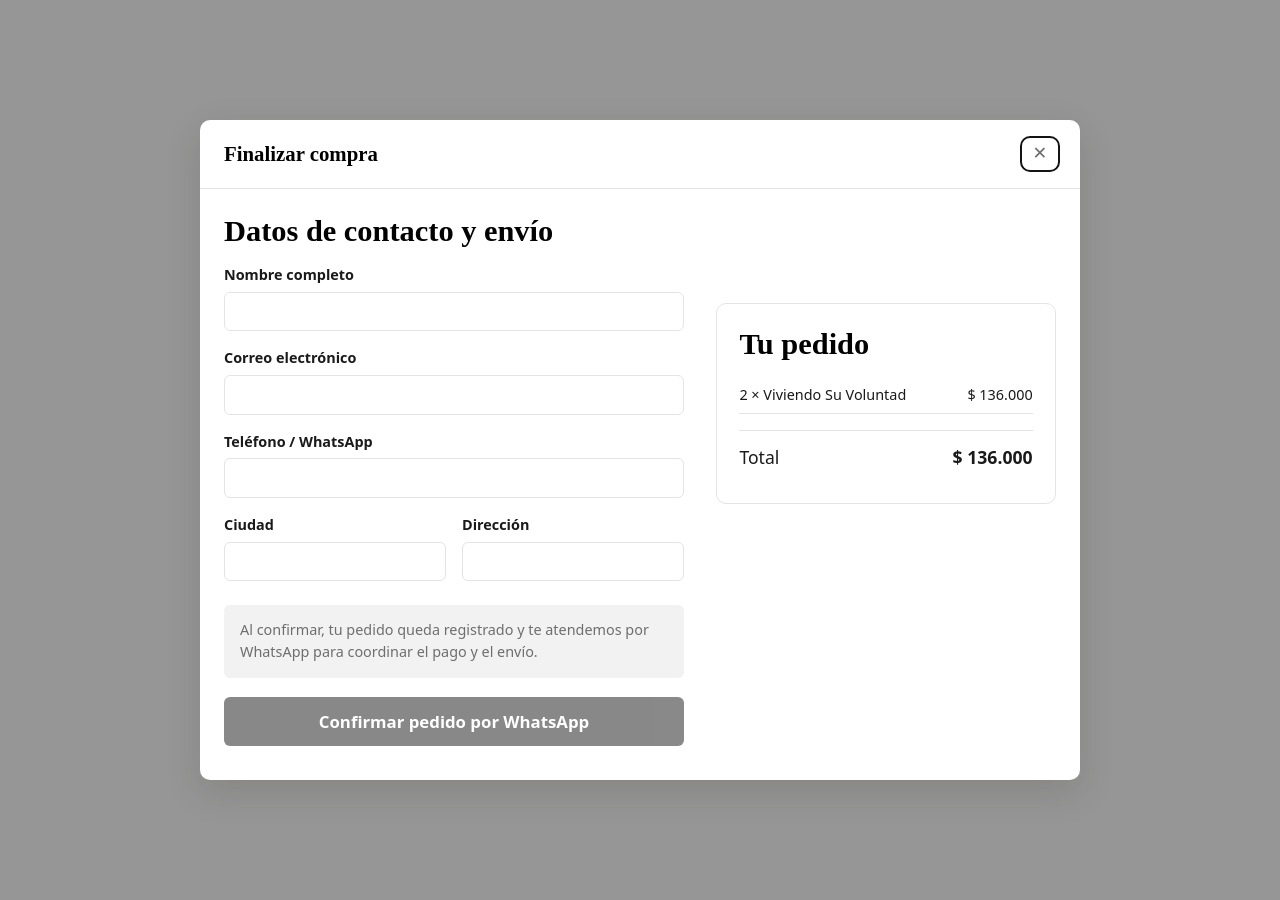
Test: Checkout: validación › deja en el teléfono solo dígitos
In the field labelled "Teléfono / WhatsApp": (454, 478) [224,458,684,498], type "abc 320-697 9160"
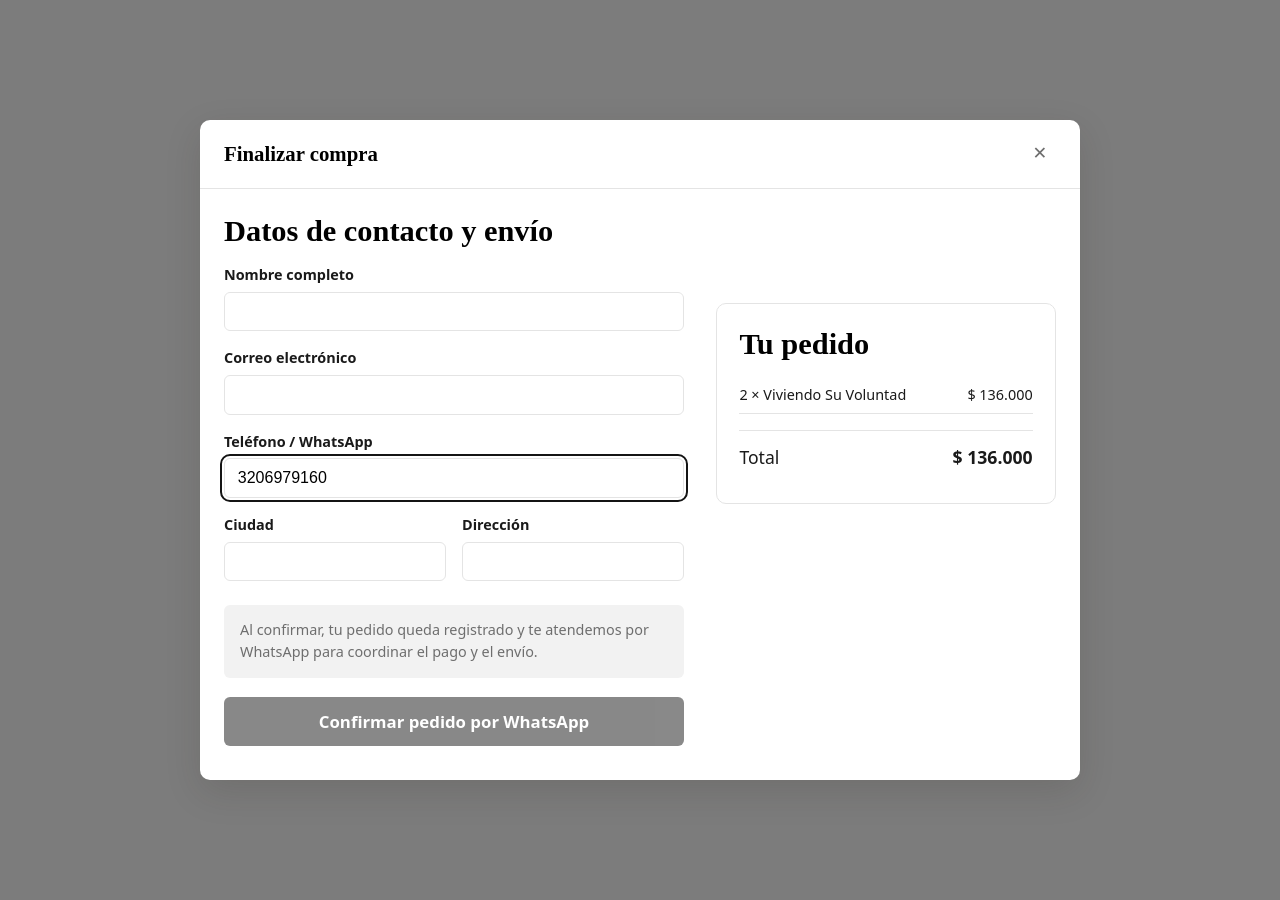
Expected: the field labelled "Teléfono / WhatsApp" holds "3206979160", [224,458,684,498]
